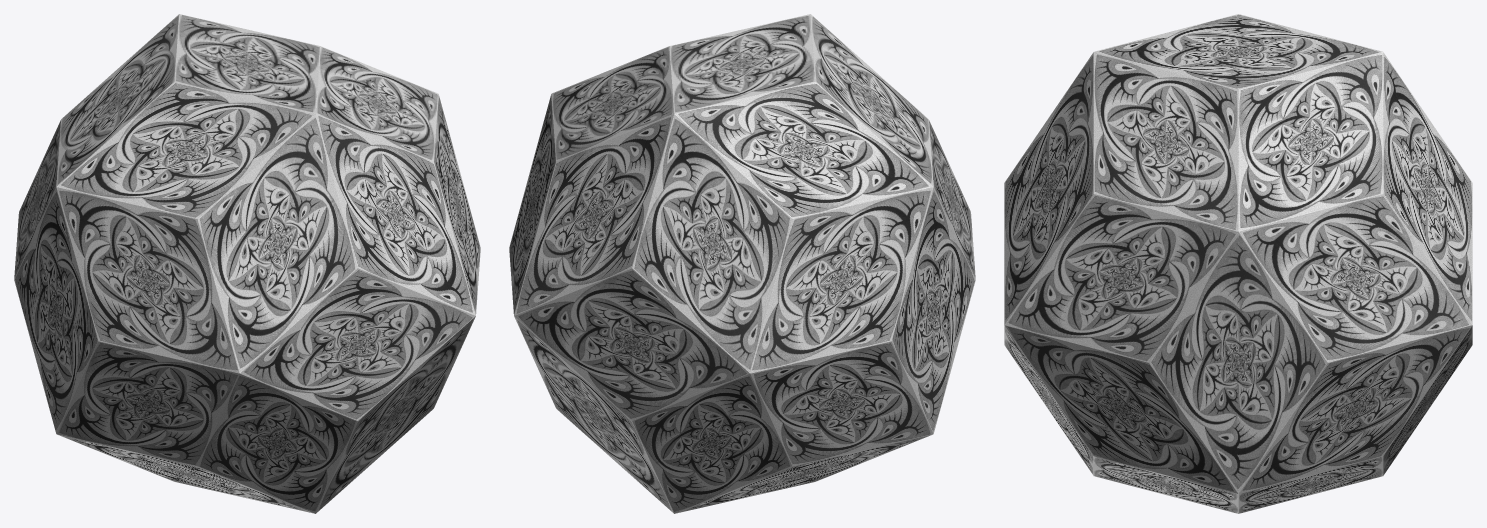
File: RhombicTriacontahedron7.obj
The picture shows the model from 3 angles, left to right: view 1: azimuth 30°, elevation 25°; view 2: azimuth 150°, elevation 25°; view 3: azimuth 270°, elevation 25°; orthographic projection. The views are drawn at different scales.
Bounding box in the file's own units: 2.93 × 2.93 × 2.93.
1 material, 1 textured.
